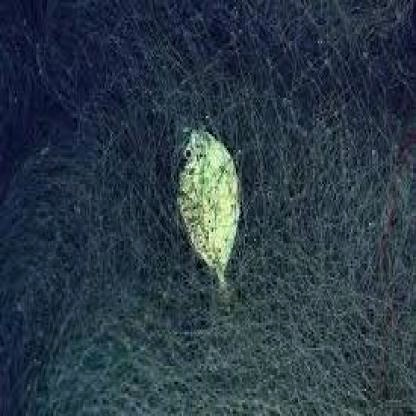net: (8, 9, 413, 414)
